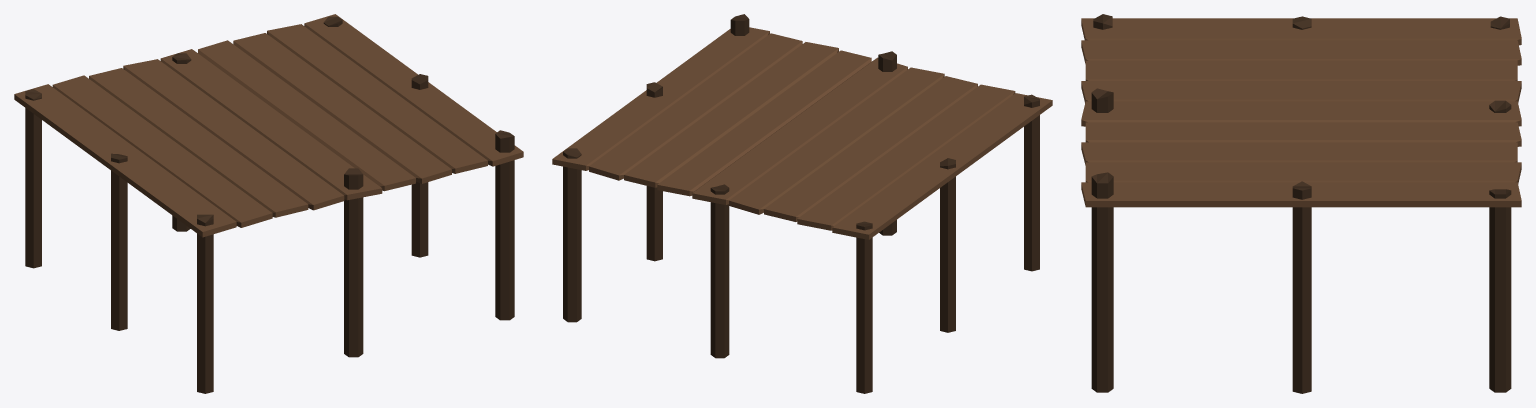
File: fishery_house_base_mat.fbx
3 renders of one model, left to right at view 1: azimuth 30°, elevation 25°; view 2: azimuth 150°, elevation 25°; view 3: azimuth 270°, elevation 25°, orthographic. The views are drawn at different scales.
Visible parts, largest first — view 1: fishery_house_base_mat; view 2: fishery_house_base_mat; view 3: fishery_house_base_mat.
Boxes of the visible parts, box(x1,y1,x2,y2) form: fishery_house_base_mat: box(14, 14, 523, 393); fishery_house_base_mat: box(552, 14, 1052, 393); fishery_house_base_mat: box(1081, 14, 1521, 393).
Size of the model in its own units: 330 by 179 by 337.
